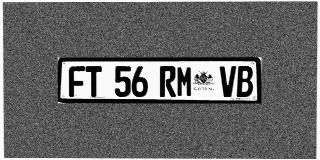5: (115, 66, 131, 97)
6: (132, 66, 148, 97)
B: (236, 66, 253, 97)
F: (69, 66, 85, 97)
M: (176, 66, 193, 97)
R: (160, 66, 176, 97)
T: (85, 66, 102, 97)
V: (220, 66, 236, 97)
